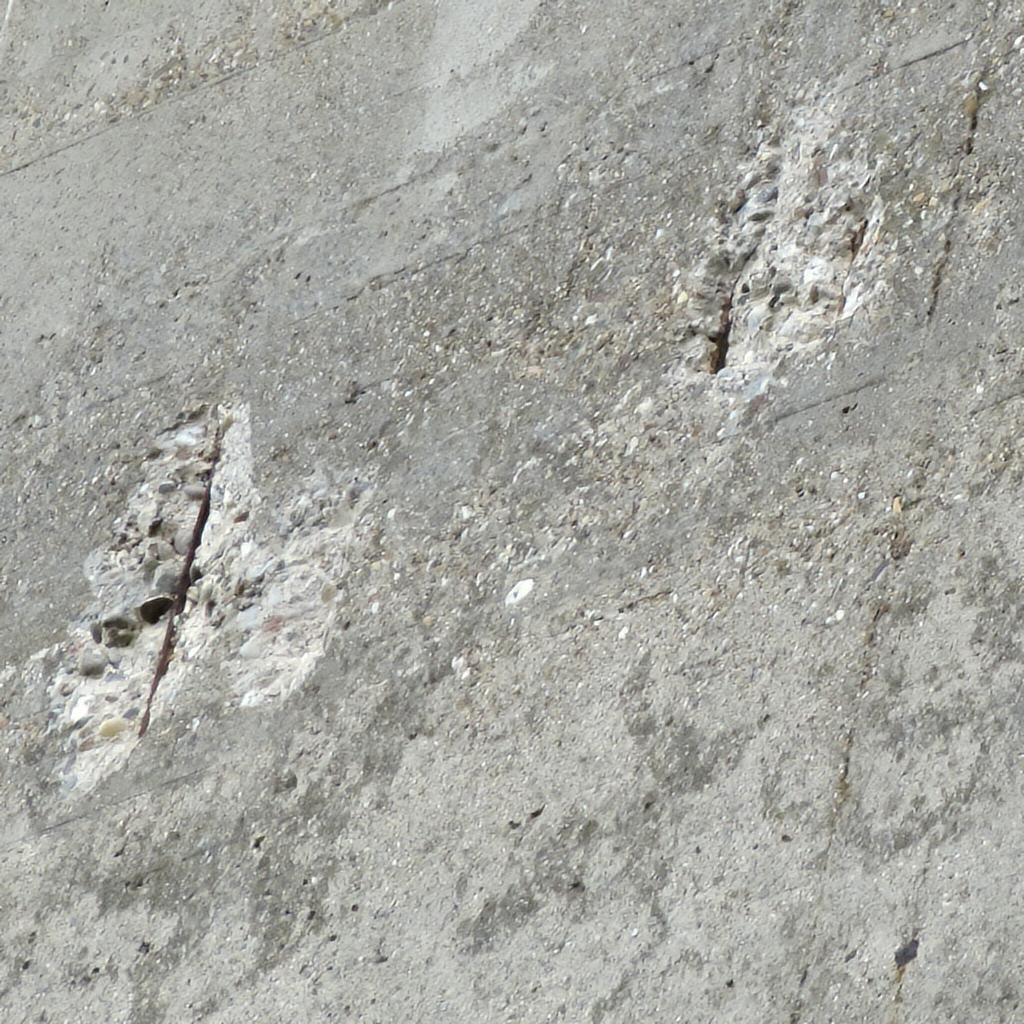exposed_rebar: (138, 418, 230, 737)
spalling: (0, 404, 368, 793), (670, 90, 914, 398)
